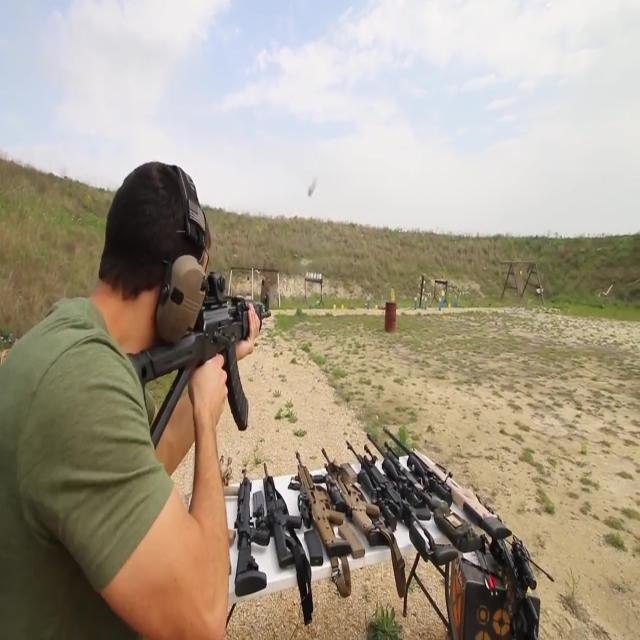Weapon: (187, 419, 488, 574), (96, 248, 288, 461)
